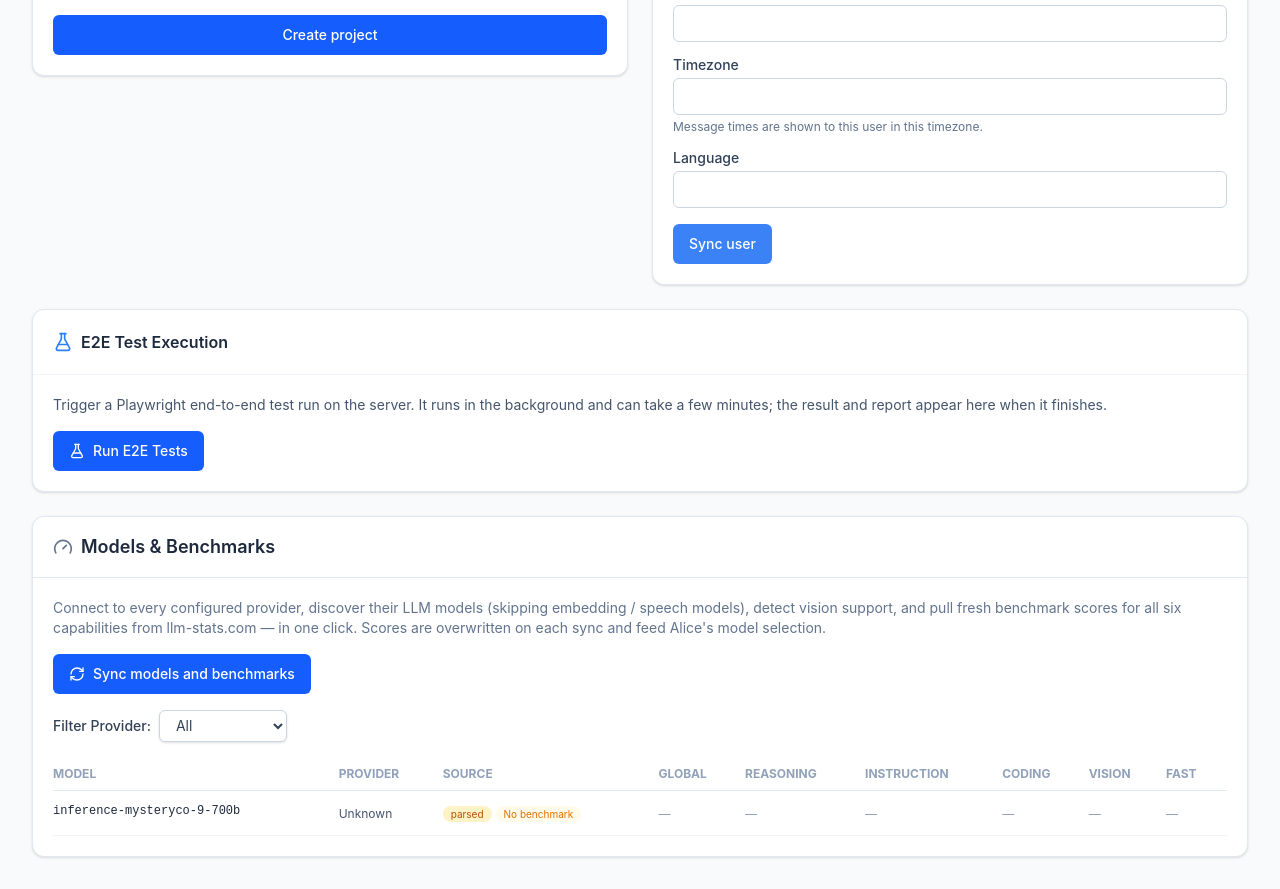
Scenario: Models & Benchmarks section discovers + syncs scores via the Sync button (no manual form)
(page scrolled)
Expected: the text "inference-mysteryco-9-700b" is shown, [53,804,240,818]
Expected: the text "No benchmark" is shown, [496,806,581,822]
Click the button "Sync models and benchmarks". click: [182, 674]
box: [53,654,311,694]
(page scrolled)
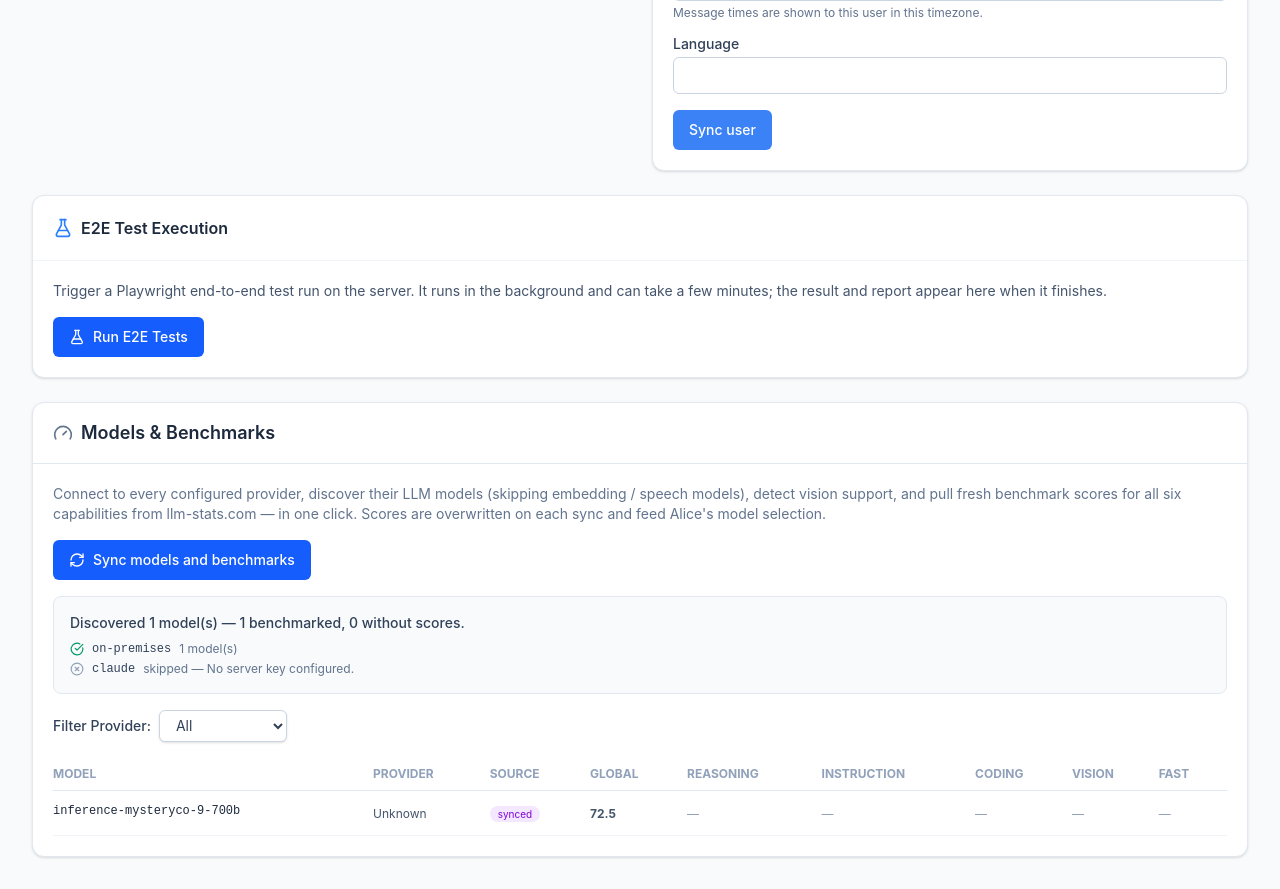
Expected: the element with test id "model-sync-result" shows "Discovered 1 model", [53,596,1227,694]
Expected: the element with test id "model-sync-result" shows "on-premises", [92,642,171,656]
Expected: the element with test id "model-sync-result" shows "skipped", [143,660,188,676]
